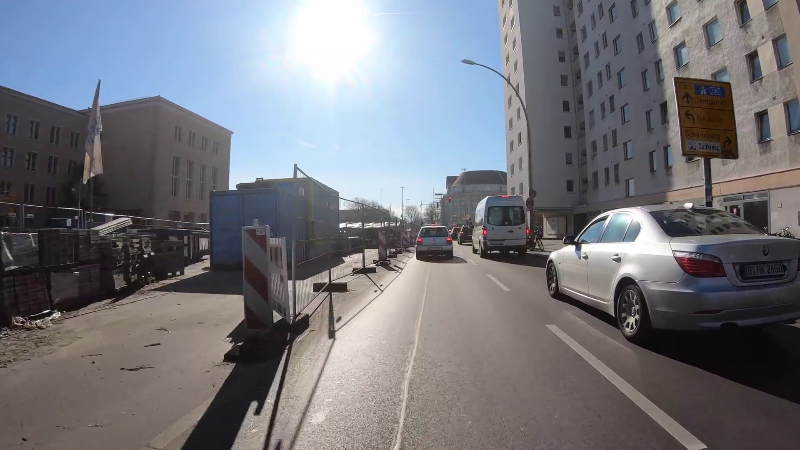Plate: (738, 261, 788, 277), (489, 238, 506, 246), (427, 246, 441, 251)
